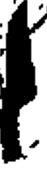Reed: (5, 1, 40, 163)
